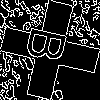B: (25, 25, 77, 67)
